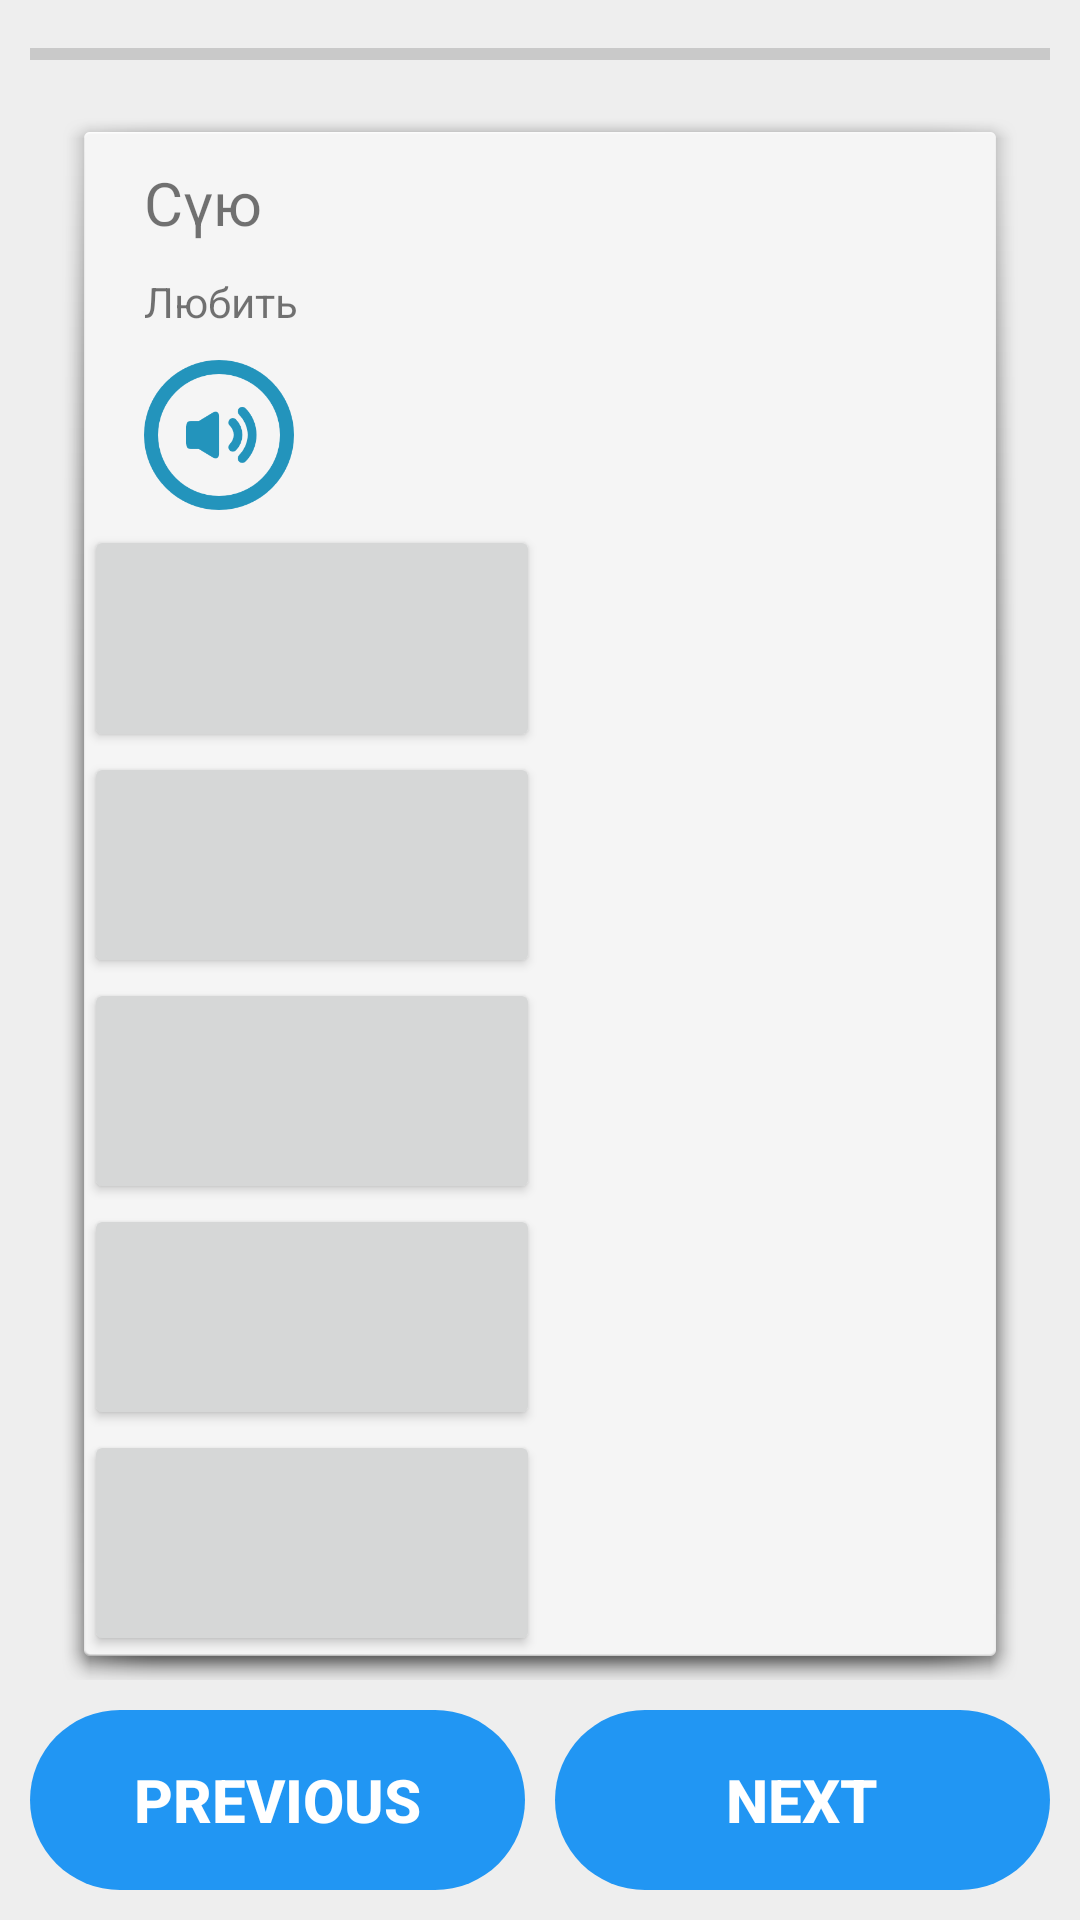

Named icons in this screenshot (1080px x 1920px) and their bounding boxes, (x1,y1,x2,y2):
volume: (144,360,294,510)
